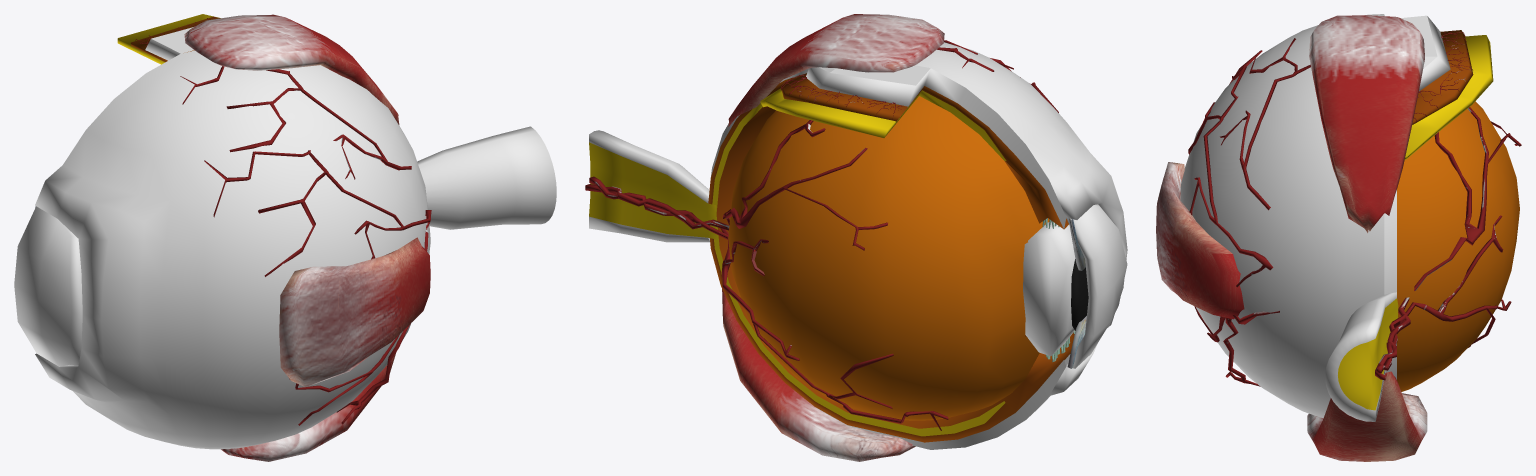
Rendered from eye_part_revisi.fbx.
The picture shows the model from 3 angles, left to right: view 1: azimuth 30°, elevation 25°; view 2: azimuth 150°, elevation 25°; view 3: azimuth 270°, elevation 25°; orthographic projection. The views are drawn at different scales.
Parts seen in each view (by area): view 1: Cylinder, Cylinder.001, Cylinder.006; view 2: Cylinder.003, Cylinder, Cylinder.001, Cylinder.004, Cylinder.002, Cylinder.005; view 3: Cylinder, Cylinder.001, Cylinder.003, Cylinder.006.
Boxes of the visible parts, x1,y1,x2,y2 form: Cylinder: [14, 14, 556, 449]; Cylinder.001: [184, 14, 430, 461]; Cylinder.006: [180, 66, 431, 425]; Cylinder.003: [585, 96, 1049, 430]; Cylinder: [589, 42, 1127, 449]; Cylinder.001: [722, 14, 944, 461]; Cylinder.004: [1023, 221, 1075, 356]; Cylinder.002: [1071, 259, 1088, 330]; Cylinder.005: [1067, 217, 1086, 368]; Cylinder: [1180, 14, 1493, 421]; Cylinder.001: [1156, 15, 1427, 461]; Cylinder.003: [1375, 101, 1521, 391]; Cylinder.006: [1188, 38, 1310, 386].
Bounding box in the file's own units: 78.88 × 61.03 × 50.25.
